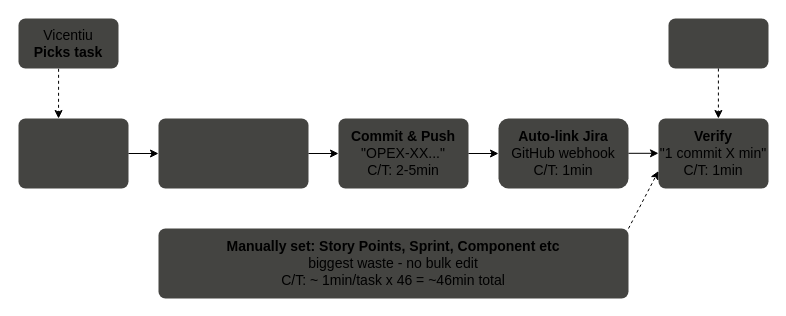
Some shapes in this 786 by 316 pixel diagram are drawn without their labels. The centre of each missing label's shape, as x and y in pixels:
Portfolio near complete: [718,43]
Select task OPEX-XX C/T: 1min: [73,153]
Technical work PBI / Miro / draw.io C/T: 5min - 2h: [233,153]
